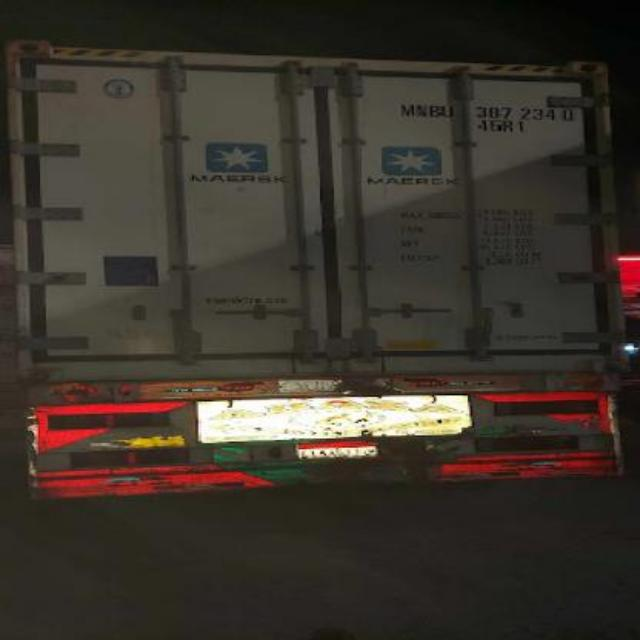0: (554, 102, 580, 126)
2: (518, 98, 530, 125)
3: (468, 101, 488, 121), (532, 102, 544, 128)
4: (544, 102, 558, 128)
7: (498, 101, 516, 121)
8: (484, 101, 504, 122)
B: (426, 98, 439, 125)
M: (390, 100, 414, 122)
N: (412, 100, 430, 124)
U: (438, 100, 454, 124)
